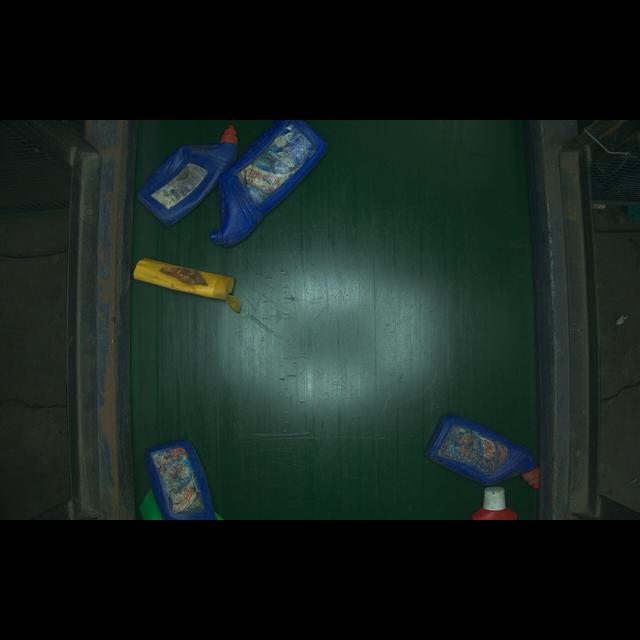mix HD: (209, 122, 333, 258), (132, 118, 238, 237), (421, 400, 549, 487), (139, 436, 230, 526), (132, 250, 249, 311)
